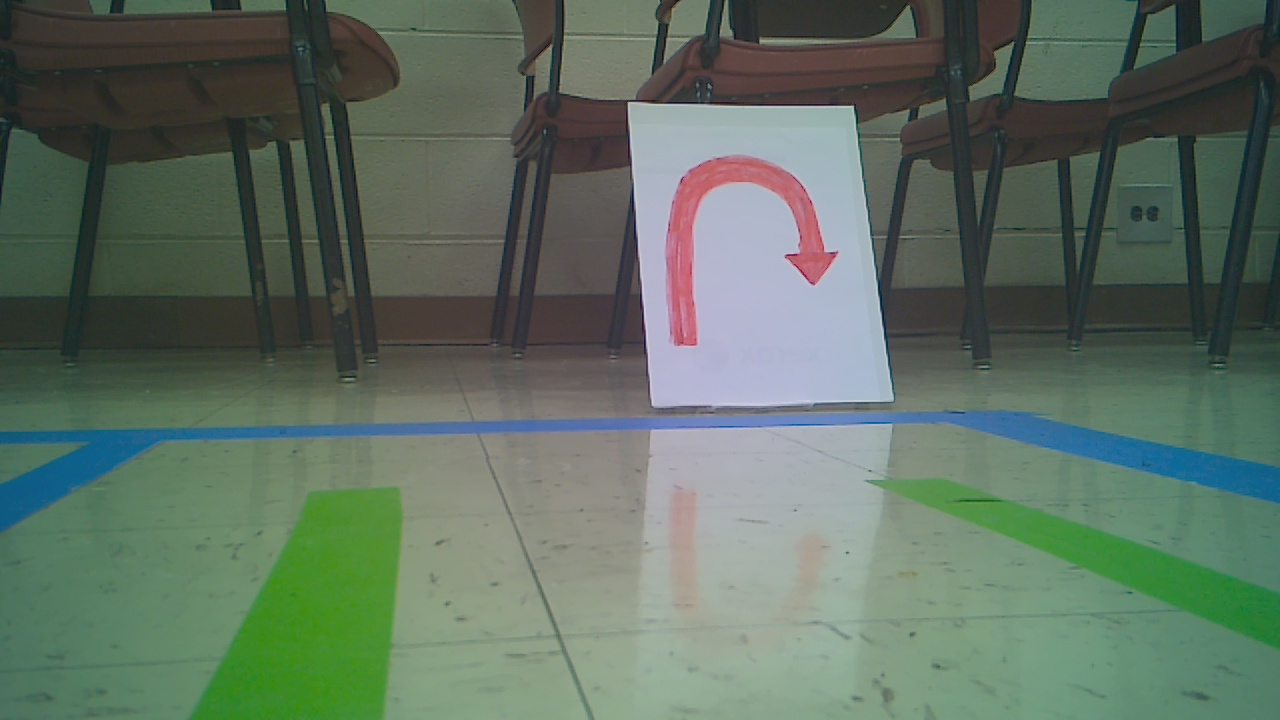greenline: (866, 486, 1274, 642), (194, 480, 405, 719)
uturn: (657, 150, 843, 346)
